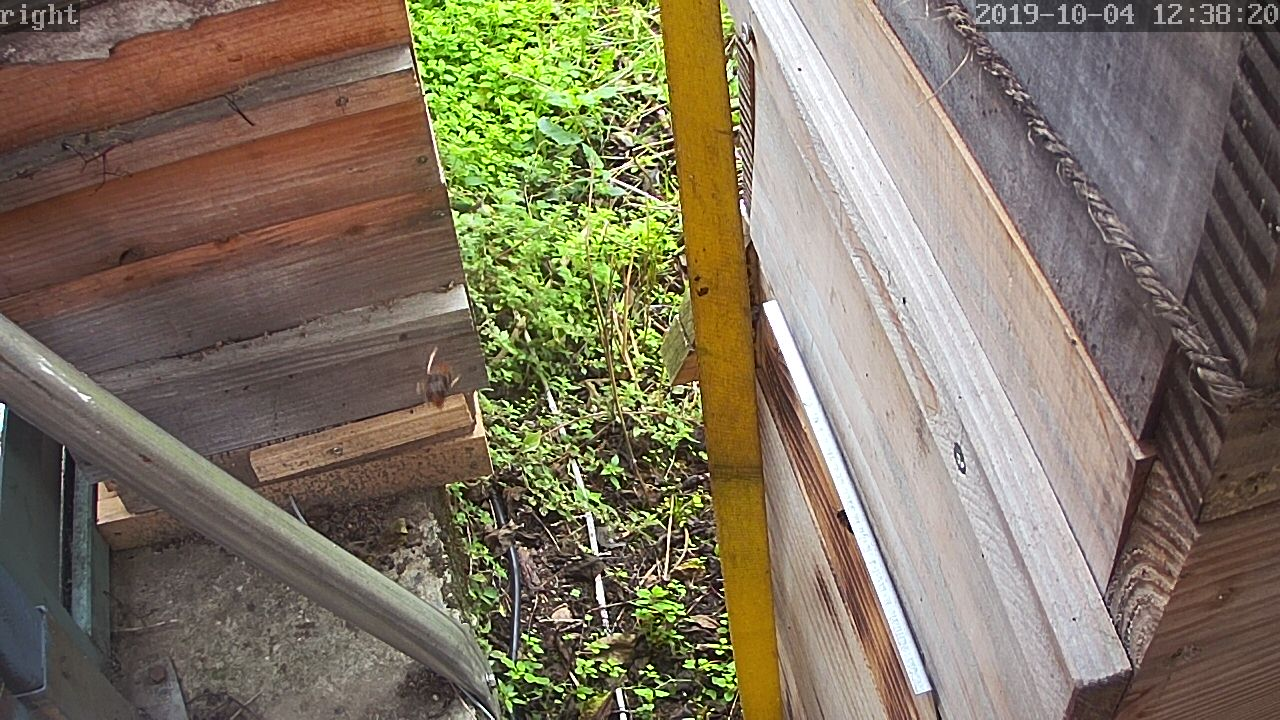hornet: (413, 352, 458, 404), (682, 448, 709, 492)
